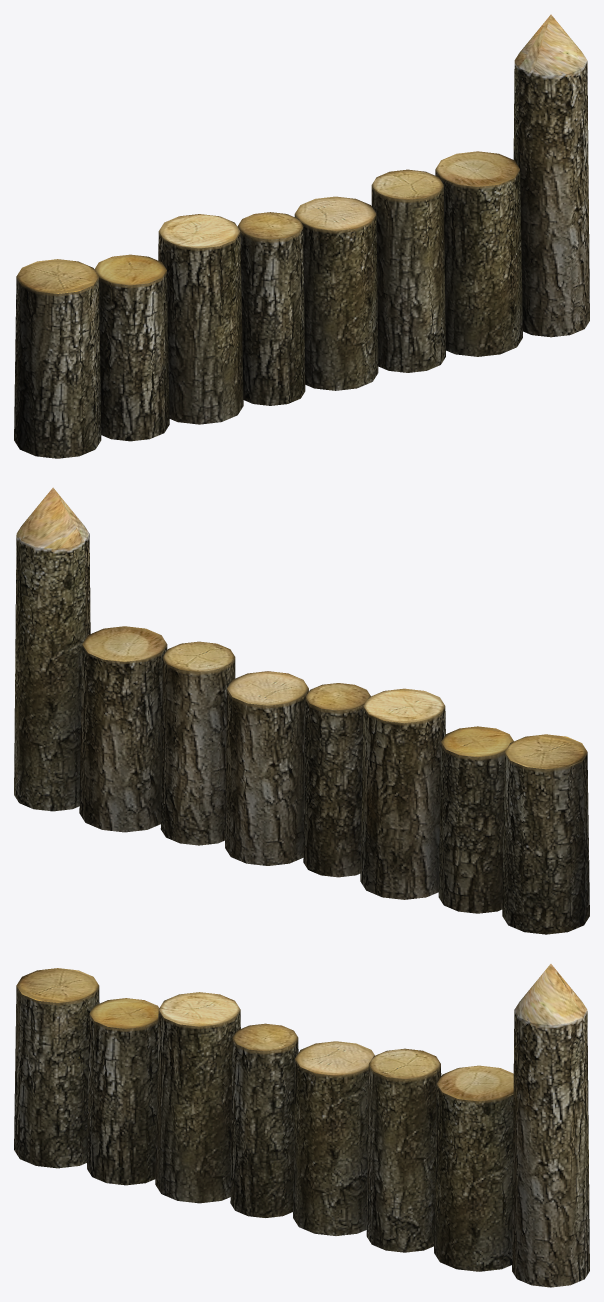
Rendered from Wooden_Wall_Fence_01_hi_left.FBX.
3 views of the same model, one above another, from view 1: azimuth 30°, elevation 25°; view 2: azimuth 150°, elevation 25°; view 3: azimuth 330°, elevation 25° (orthographic).
Parts seen in each view (by area): view 1: Wooden_Wall_Fence_01_hi_left; view 2: Wooden_Wall_Fence_01_hi_left; view 3: Wooden_Wall_Fence_01_hi_left.
Part boxes in pixels (left/top/right/bottom): Wooden_Wall_Fence_01_hi_left: left=14, top=14, right=589, bottom=458; Wooden_Wall_Fence_01_hi_left: left=14, top=487, right=589, bottom=934; Wooden_Wall_Fence_01_hi_left: left=14, top=964, right=589, bottom=1287.
Size of the model in its own units: 22.15 by 11.51 by 3.08.
1 material, 1 textured.
